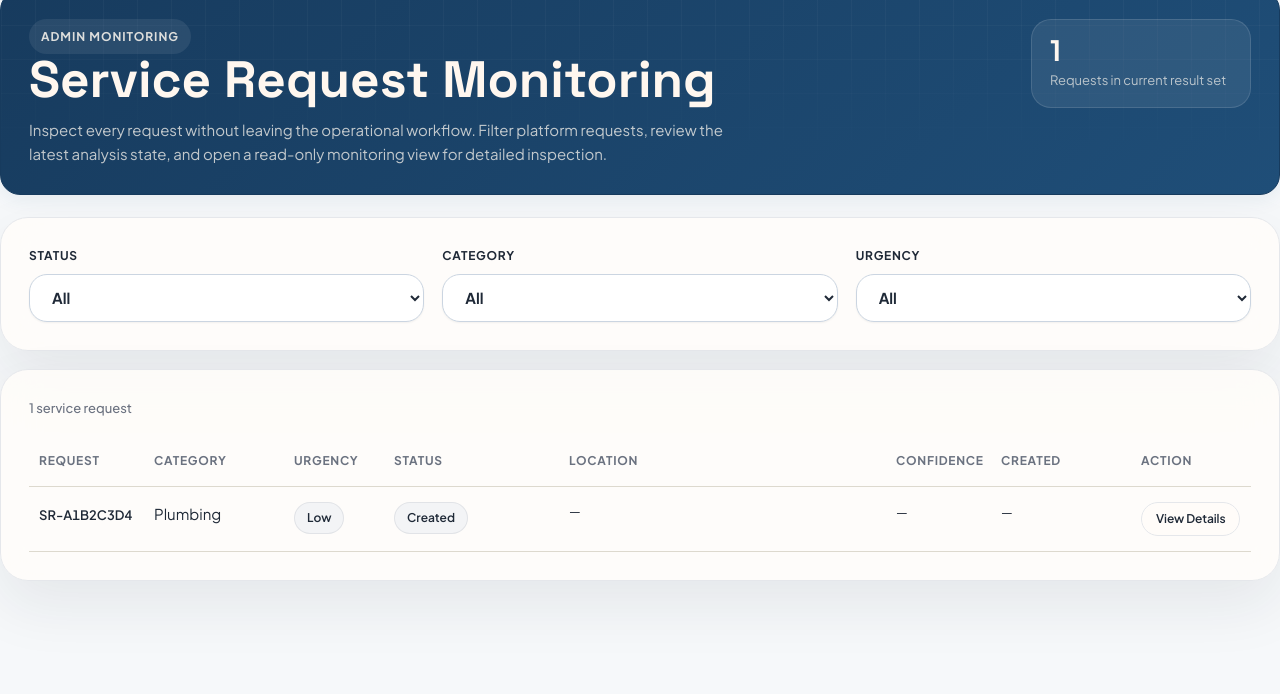
Test: Persisted Admin location presentation › uses a neutral fallback for missing address null without fabricated text or attribution
The width and height of the screenshot is (1280, 694).
Step 1. Click the button "View Details" → coordinates (1191, 519), box [1141,502,1240,536]
(page scrolled)
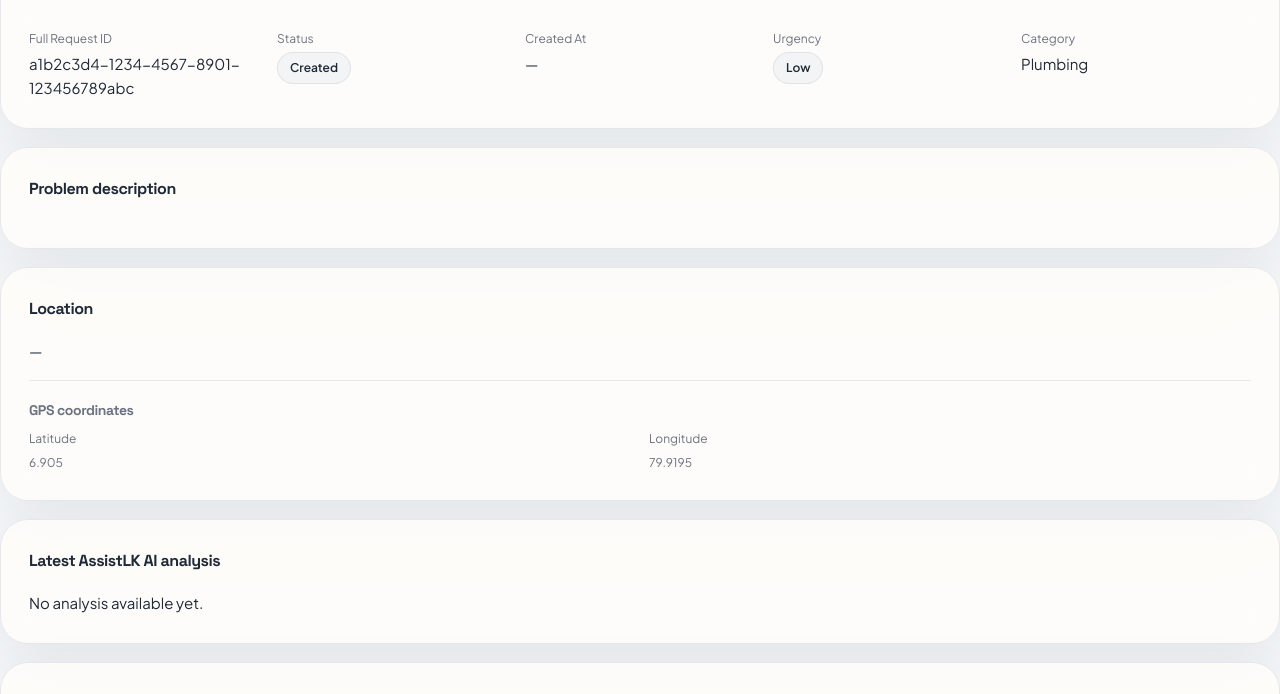
Check: the text "a1b2c3d4-1234-4567-8901-123456789abc" is shown, box [29,52,259,100]
Check: the element showing "—" is shown, box [29,340,42,360]
